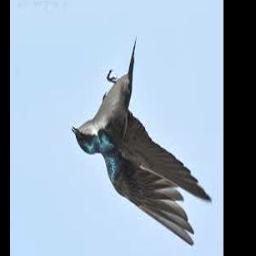Swallow: (73, 38, 212, 248)
